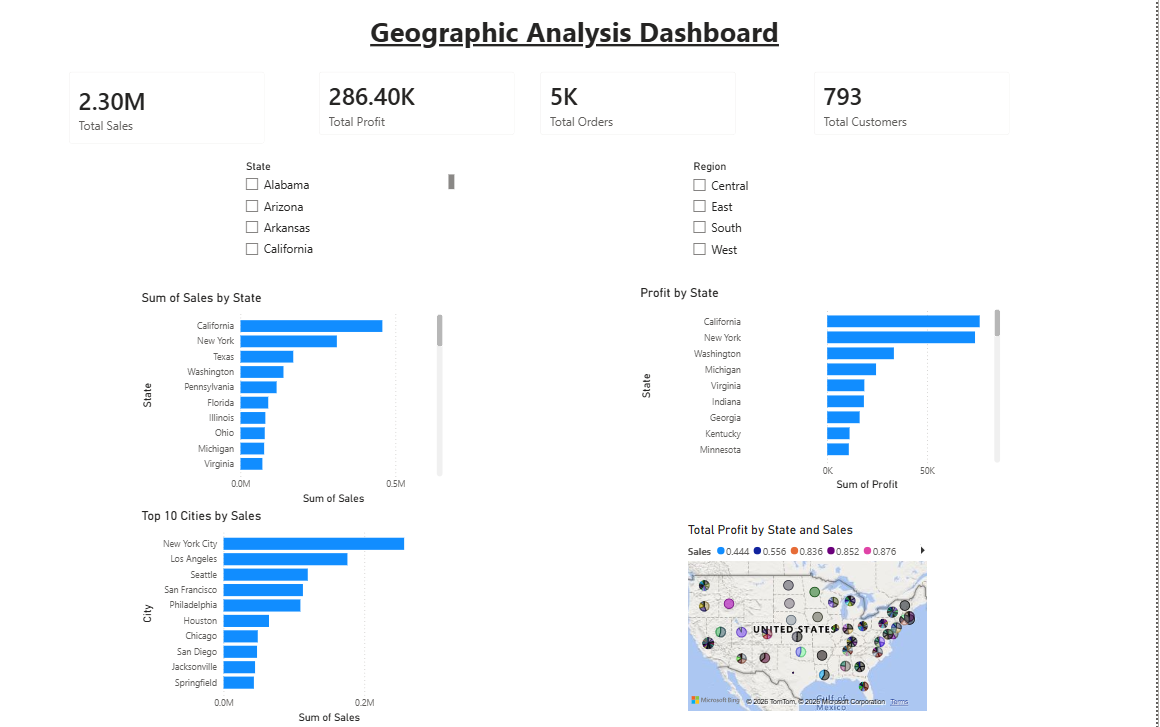

Layout of this report page (visuals, bound fields, positions):
{"tool":"powerbi","page":{"name":"Geographic Analysis","canvas":[1580,1000],"ordinal":3},"visuals":[{"type":"textbox","box":[506.1,22.1,682.7,67.9],"z":0},{"type":"cardVisual","fields":{"Data":["Superstore.Total Sales"]},"box":[84.9,90,300.6,132.5],"z":1000},{"type":"cardVisual","fields":{"Data":["Superstore.Total Profit"]},"box":[424.6,90,300.6,120.6],"z":2000},{"type":"cardVisual","fields":{"Data":["Superstore.Total Orders"]},"box":[725.2,90,300.6,120.6],"z":3000},{"type":"cardVisual","fields":{"Data":["Superstore.Total Customers"]},"box":[1097.2,90,300.6,120.6],"z":4000},{"type":"clusteredBarChart","fields":{"Category":["Superstore.State"],"Y":["Sum(Superstore.Sales)"]},"box":[195.3,404.2,419.5,295.5],"z":5000},{"type":"clusteredBarChart","title":"Profit by State","fields":{"Category":["Superstore.State"],"Y":["Sum(Superstore.Profit)"]},"box":[873,397.4,499.3,283.6],"z":6000},{"type":"clusteredBarChart","title":"Top 10 Cities by Sales","fields":{"Category":["Superstore.City"],"Y":["Sum(Superstore.Sales)"]},"box":[195.3,699.7,422.9,297.2],"z":7000},{"type":"slicer","fields":{"Values":["Superstore.State"]},"box":[329.5,222.5,300.6,149.5],"z":8000},{"type":"slicer","fields":{"Values":["Superstore.Region"]},"box":[937.5,222.5,290.4,149.5],"z":9000},{"type":"map","fields":{"Category":["Superstore.State"],"Series":["Superstore.Sales"],"Size":["Superstore.Total Profit"]},"box":[937.5,718.4,334.6,261.6],"z":10000}]}

Visuals, with their boxes in screenshot pixels (x1, y1, x2, y2), scaled from the page's 1580x1000 canvas onto the 1160x727 screenshot:
textbox: left=372, top=16, right=873, bottom=65
cardVisual - Superstore.Total Sales: left=62, top=65, right=283, bottom=162
cardVisual - Superstore.Total Profit: left=312, top=65, right=532, bottom=153
cardVisual - Superstore.Total Orders: left=532, top=65, right=753, bottom=153
cardVisual - Superstore.Total Customers: left=806, top=65, right=1026, bottom=153
clusteredBarChart - Superstore.State x Sum(Superstore.Sales): left=143, top=294, right=451, bottom=509
"Profit by State" clusteredBarChart: left=641, top=289, right=1008, bottom=495
"Top 10 Cities by Sales" clusteredBarChart: left=143, top=509, right=454, bottom=725
slicer - Superstore.State: left=242, top=162, right=463, bottom=270
slicer - Superstore.Region: left=688, top=162, right=901, bottom=270
map - Superstore.State x Superstore.Sales: left=688, top=522, right=934, bottom=712
